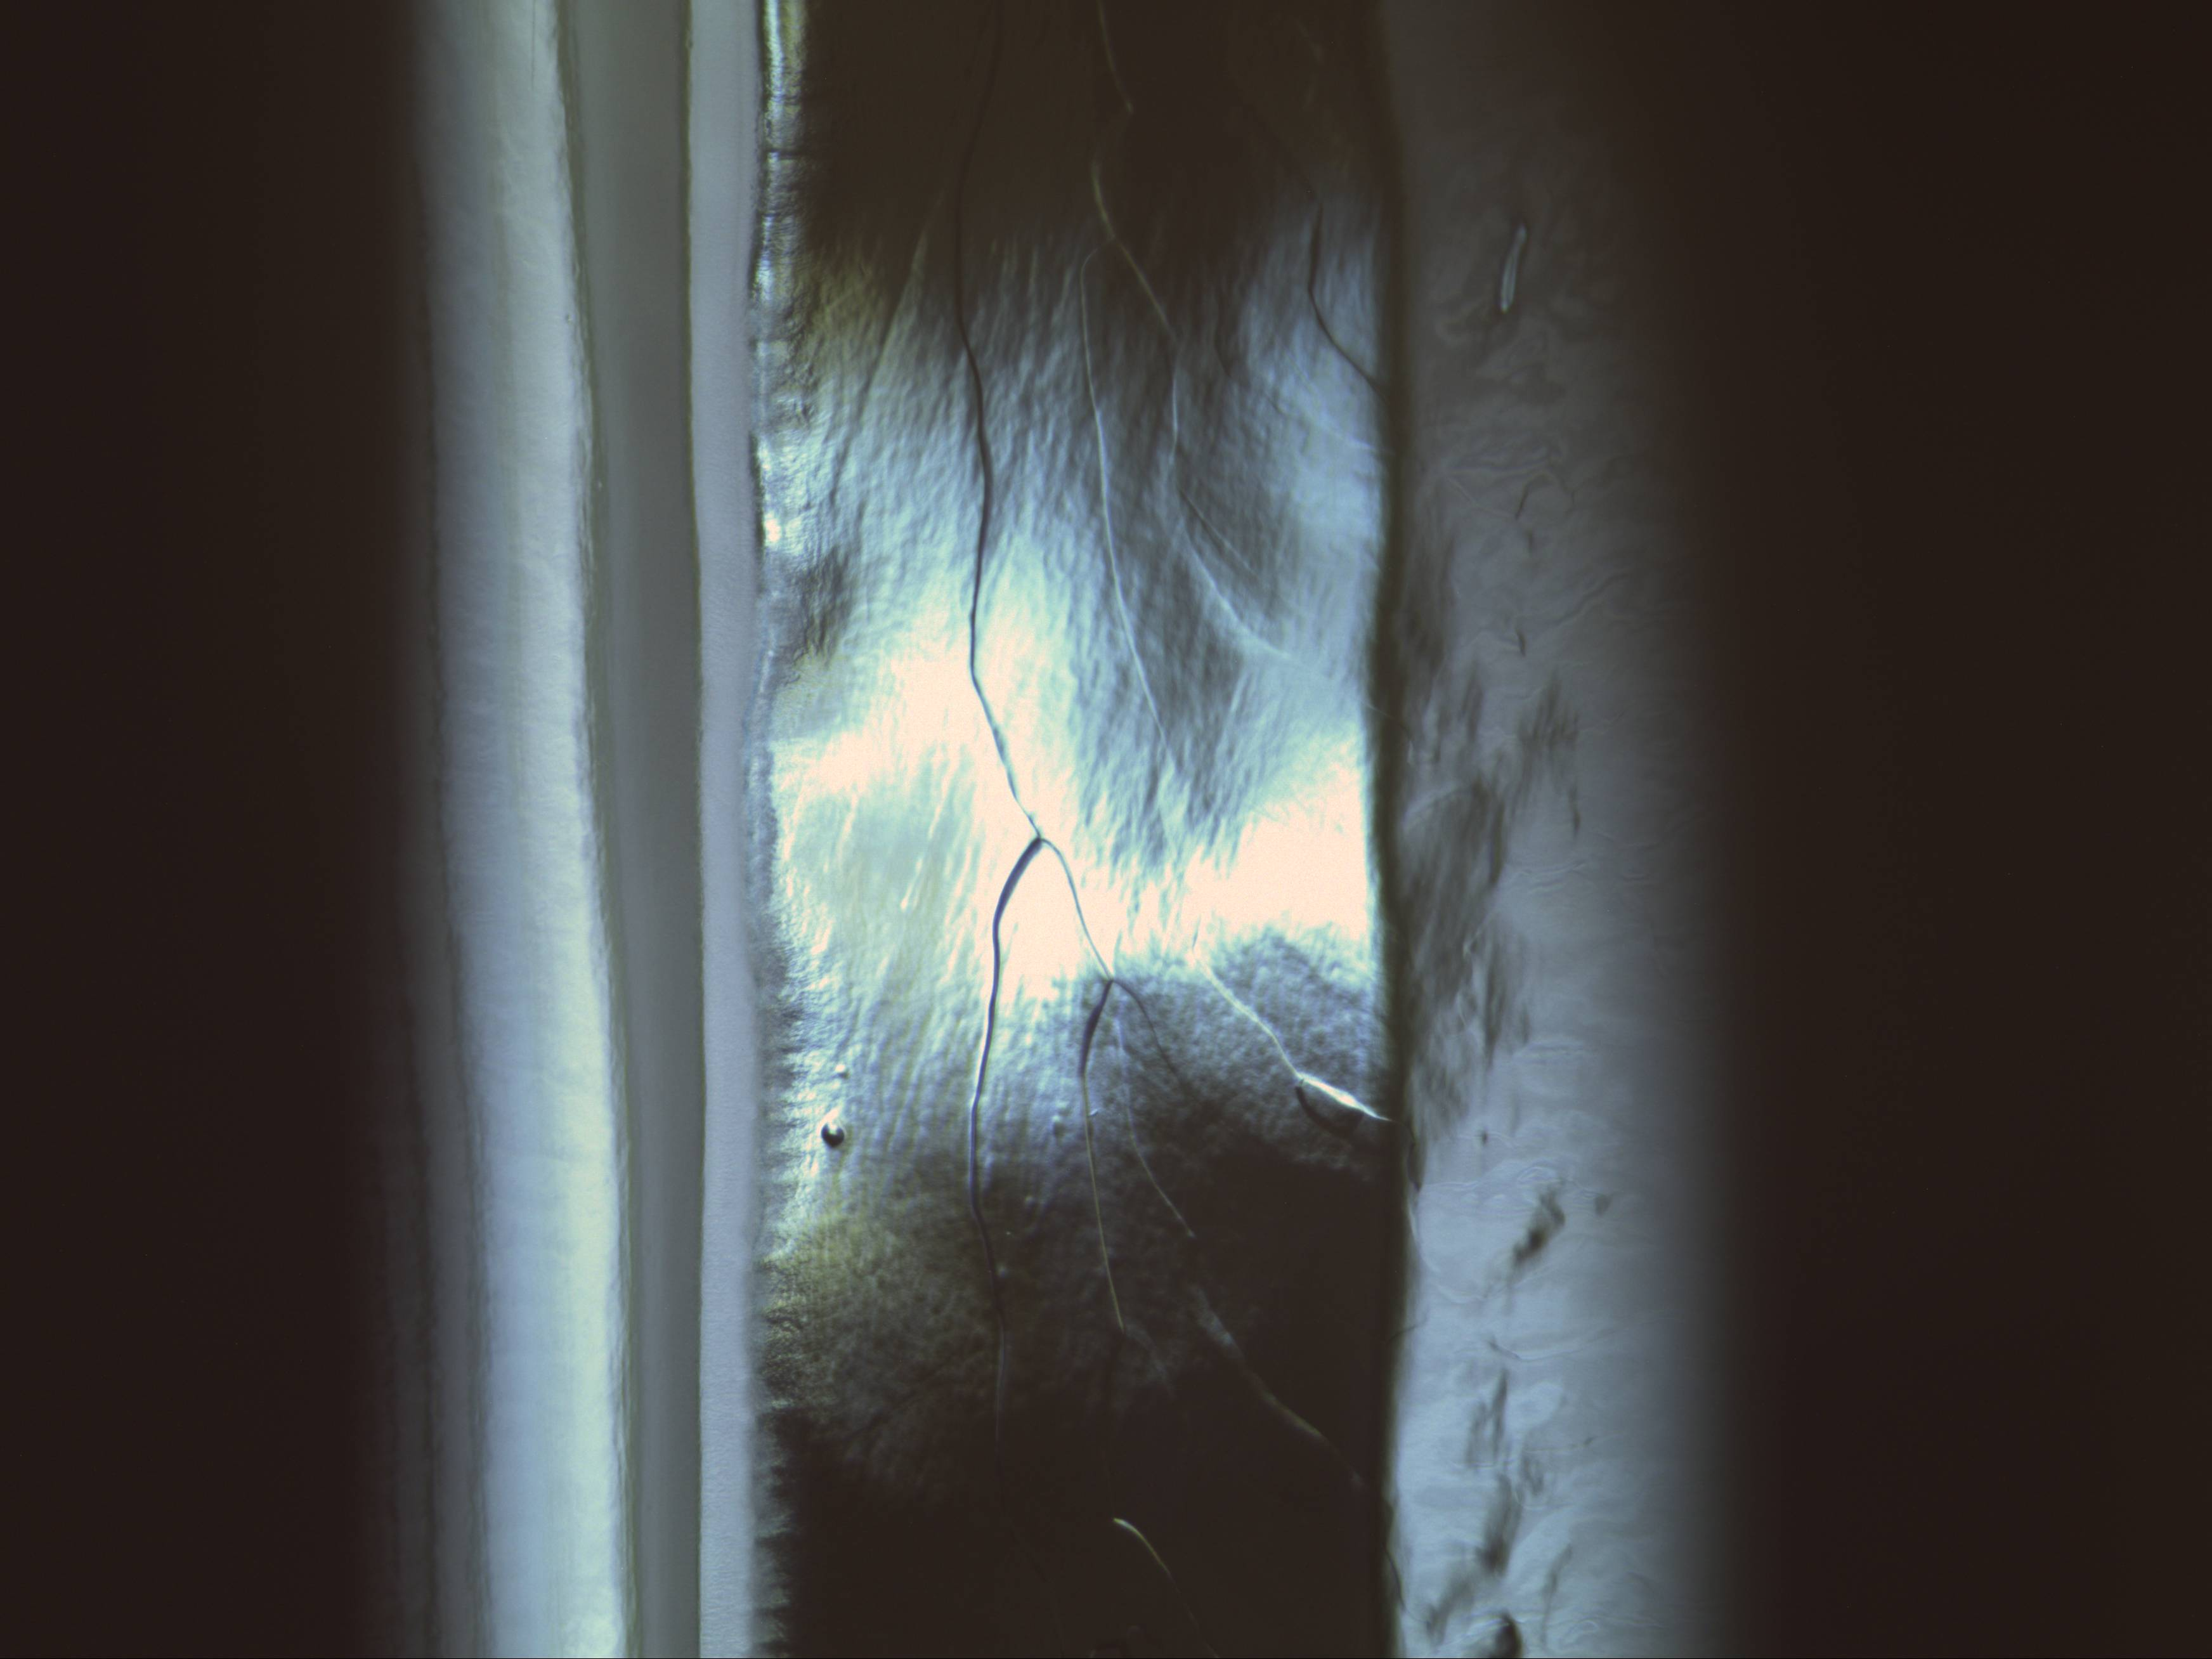defect: (819, 1121, 846, 1148)
